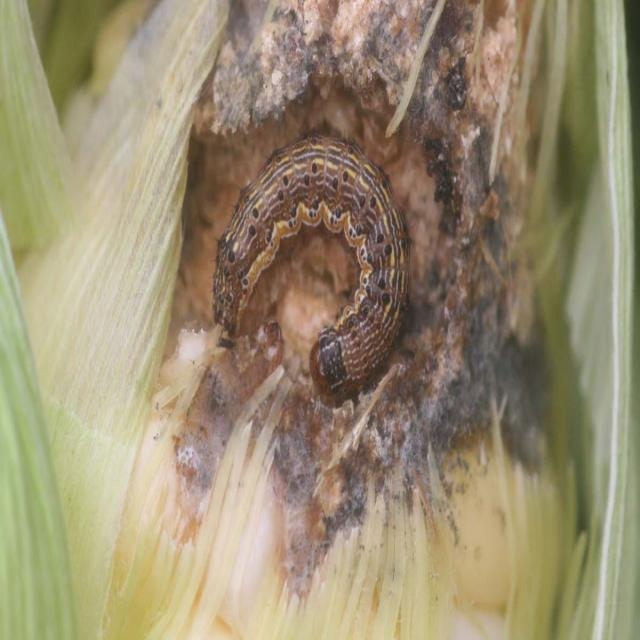cornborer-Larva-: (198, 118, 416, 416)
